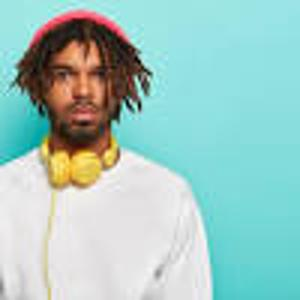Headphones: (34, 135, 124, 189)
